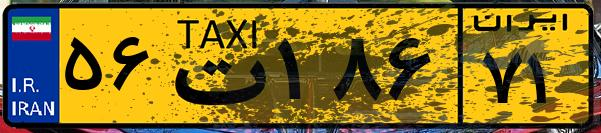1: (270, 28, 330, 110), (525, 38, 570, 115)
5: (57, 26, 110, 100)
6: (385, 28, 445, 110), (110, 28, 158, 98)
7: (475, 38, 525, 113)
8: (330, 28, 385, 110)
ت: (158, 12, 270, 120)
